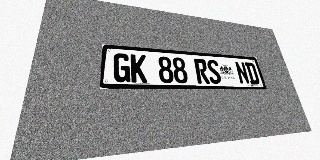8: (158, 56, 174, 83), (172, 57, 188, 83)
D: (244, 62, 260, 84)
G: (113, 53, 130, 82)
K: (131, 54, 147, 83)
N: (234, 61, 250, 84)
R: (194, 58, 210, 84)
S: (206, 59, 222, 84)
